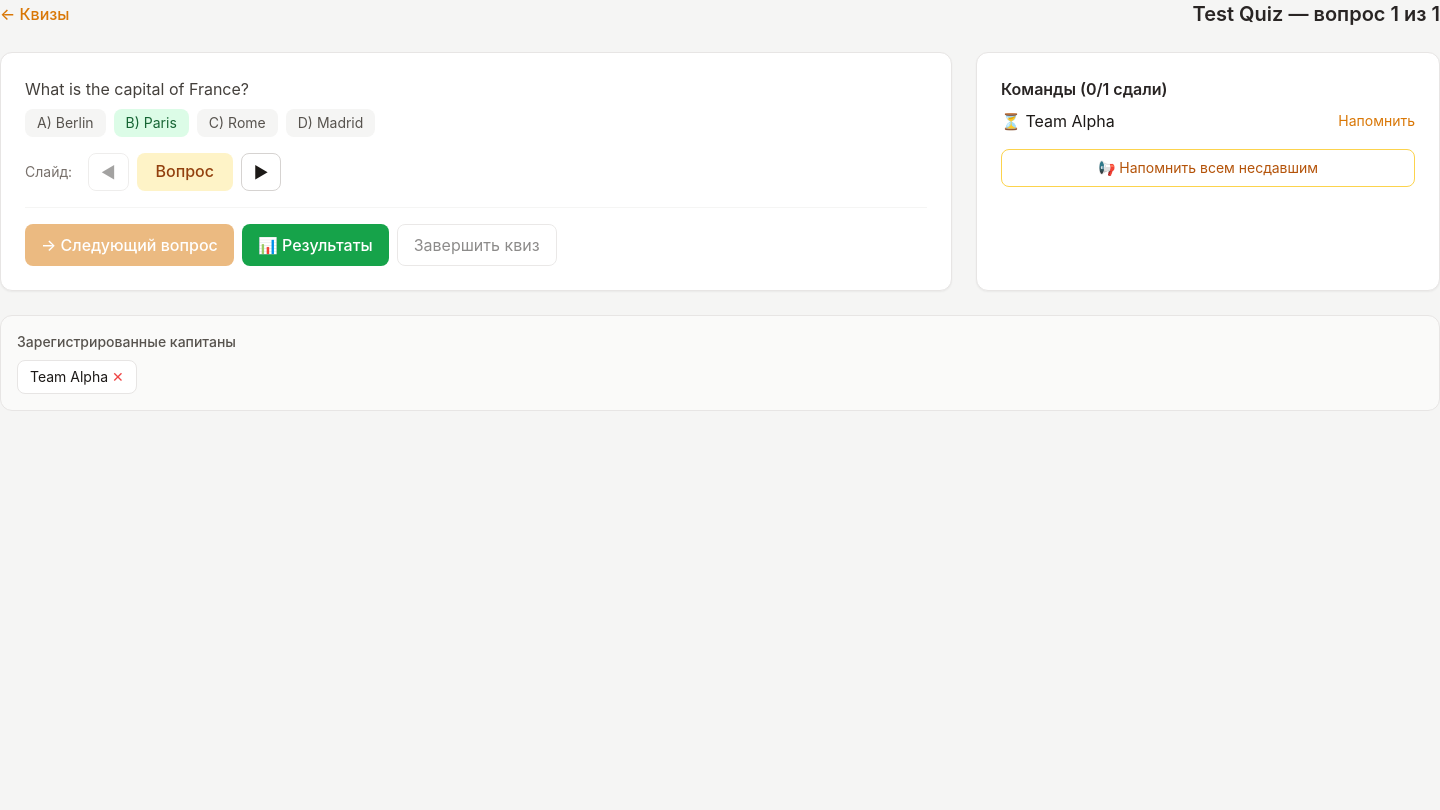
Test: Game.jsx — playing: results modal (📊) › clicking 'Подробнее' inside results modal opens team details
The width and height of the screenshot is (1440, 810).
Expected: the text "What is the capital of France?" is shown, [25, 77, 249, 101]
# Open results modal
Click the button "📊 Результаты" at (315,245), box [242, 224, 389, 266]
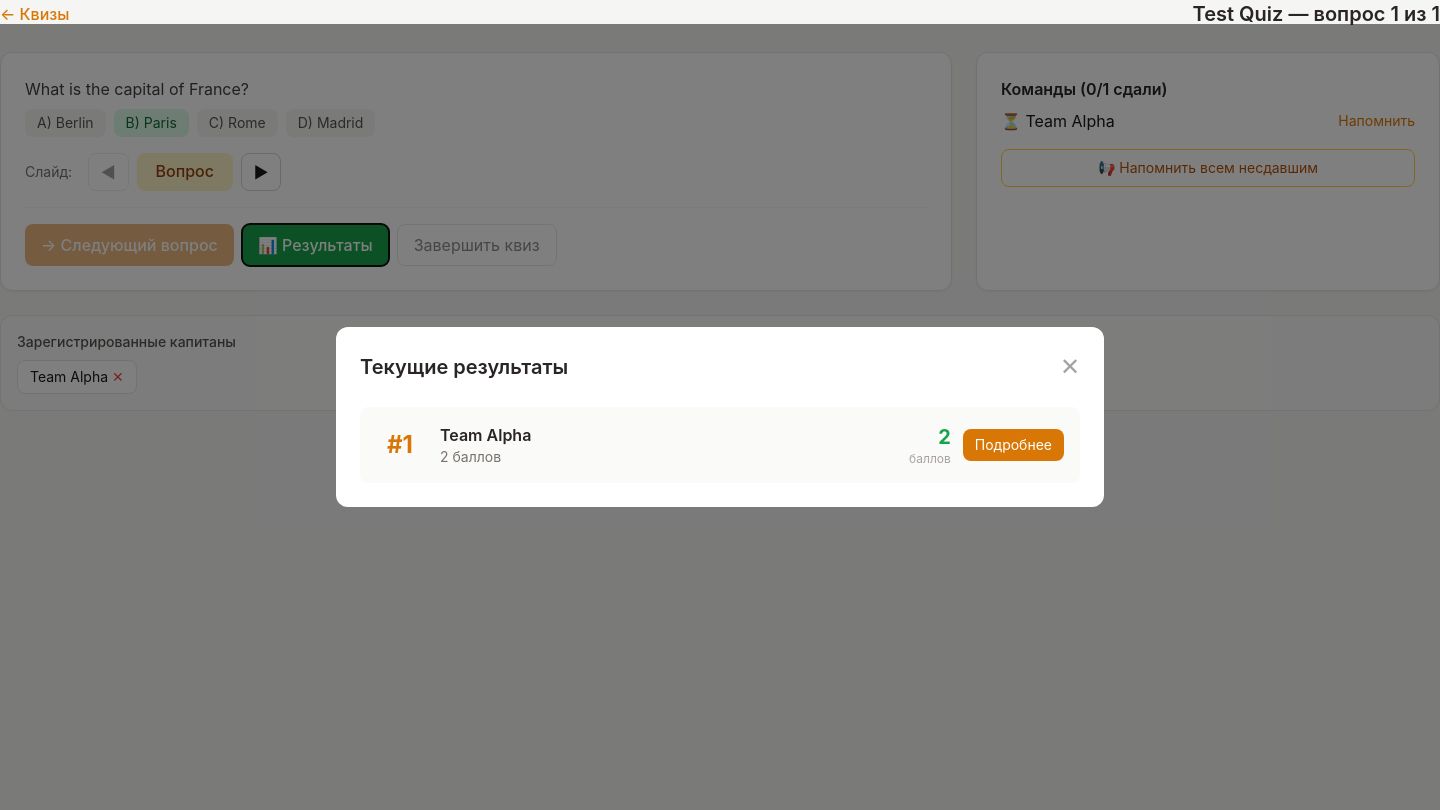
Result: the heading "Текущие результаты" is shown at [360, 353, 568, 381]
# Click "Подробнее" inside that modal (results modal has its own "Подробнее" button)
Click the button "Подробнее" at (1013,445), box [963, 429, 1064, 461]
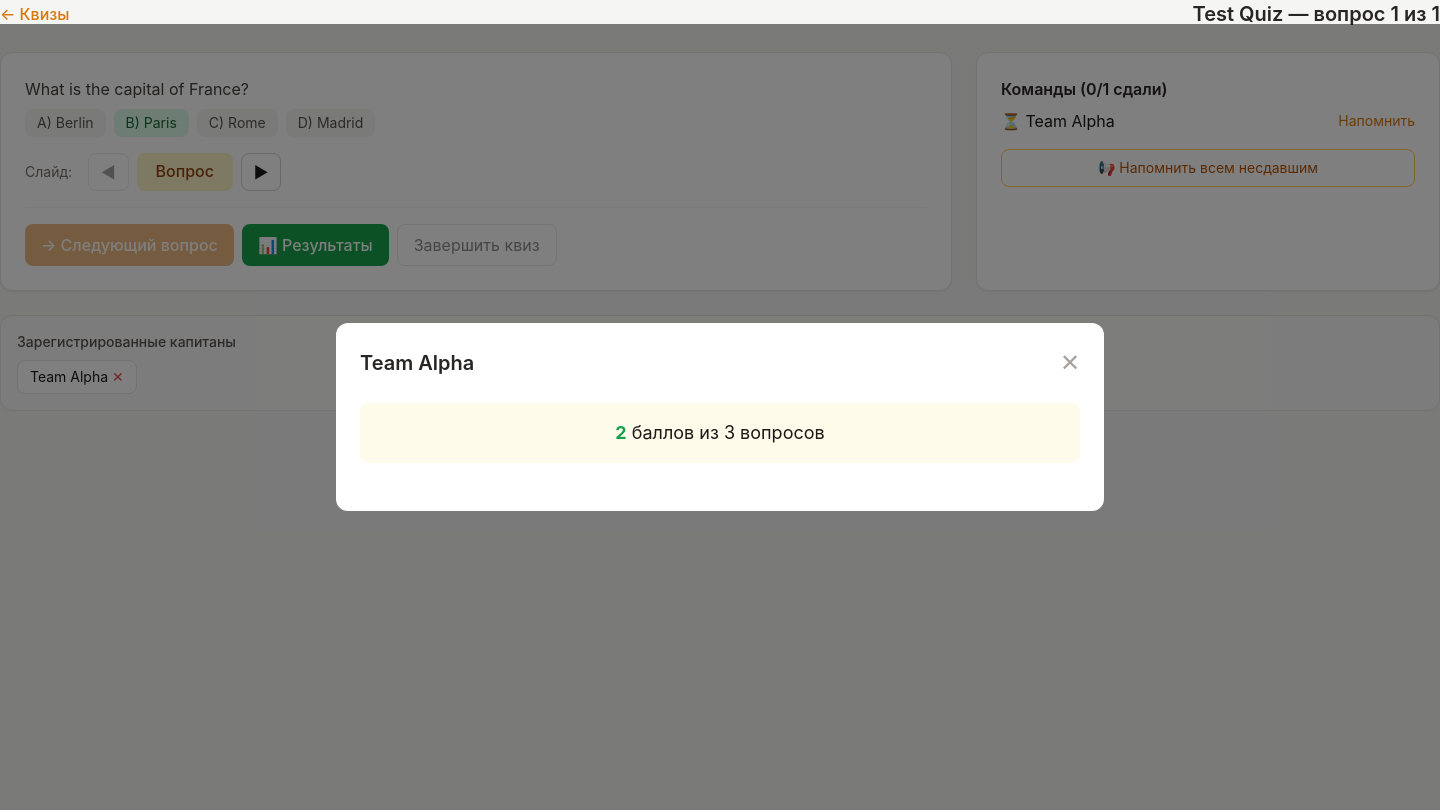
Result: the text "2 баллов из 3 вопросов" is shown at [615, 422, 825, 443]
